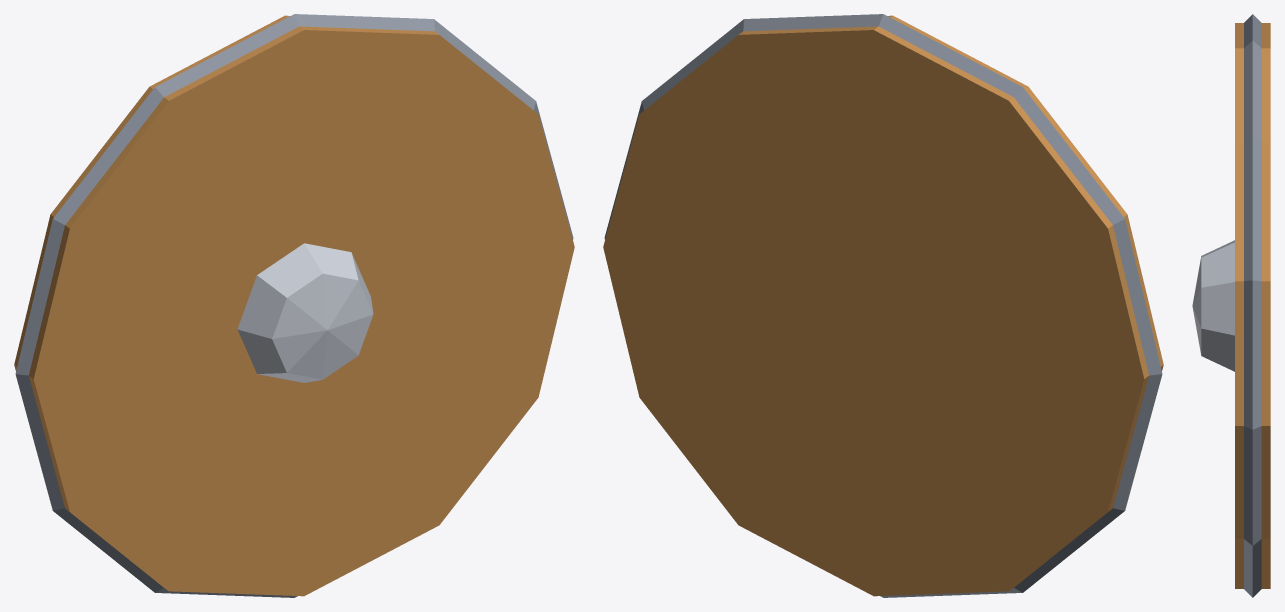
Rendered from round_shield.fbx.
3 renders of one model, left to right at view 1: azimuth 30°, elevation 25°; view 2: azimuth 150°, elevation 25°; view 3: azimuth 270°, elevation 25°, orthographic. The views are drawn at different scales.
Visible parts, largest first — view 1: round_shield; view 2: round_shield; view 3: round_shield.
Boxes of the visible parts, x1,y1,x2,y2 form: round_shield: [14, 14, 574, 597]; round_shield: [603, 14, 1163, 597]; round_shield: [1192, 14, 1270, 597].
Bounding box in the file's own units: 0.66 × 0.66 × 0.088.
